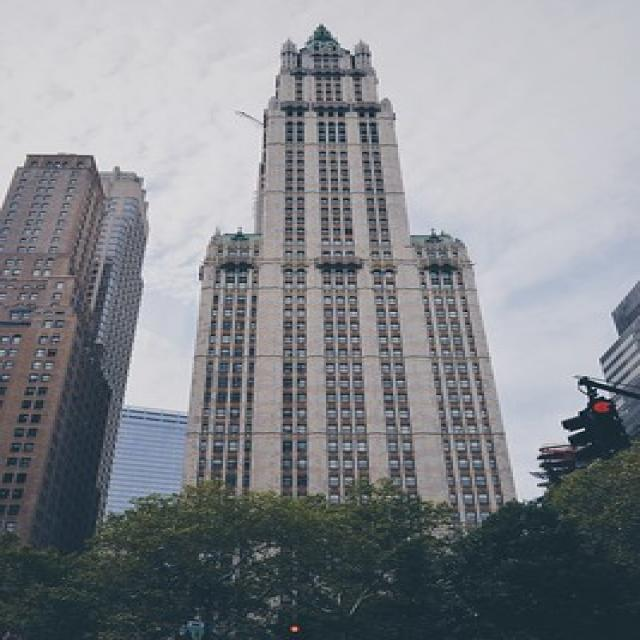Normal_building: (176, 16, 531, 613)
